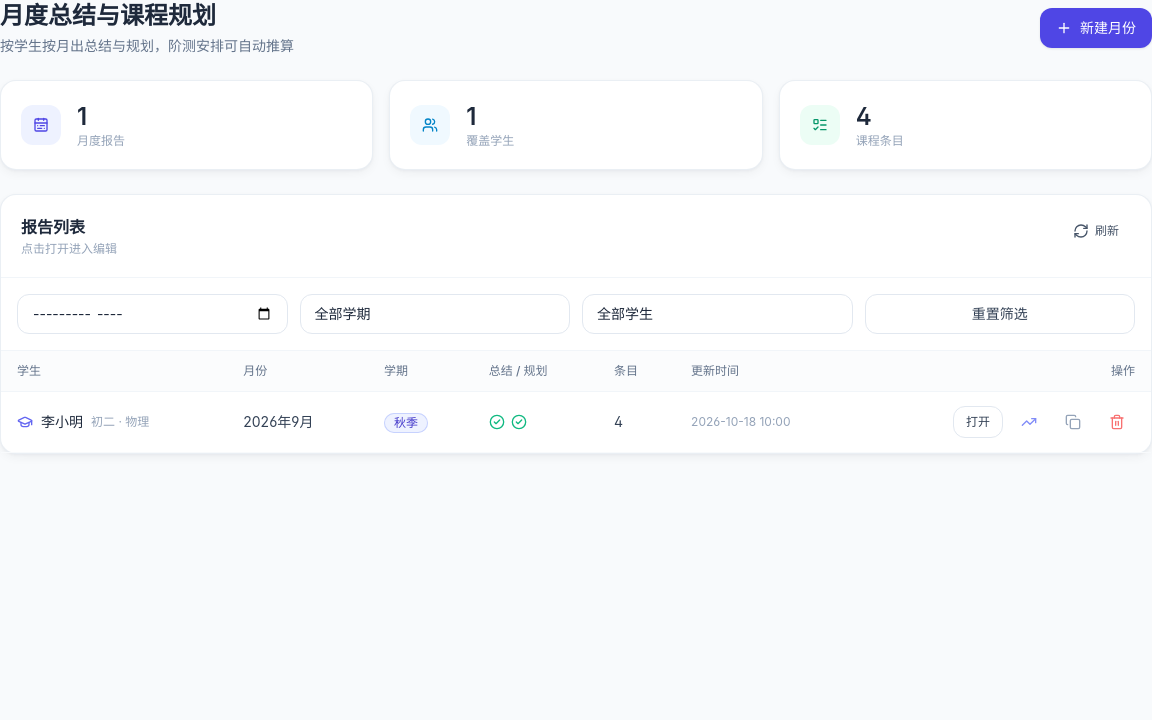
月度报告列表 › 删除报告要经过确认，确认后从列表移除
Expected: the text "李小明" is shown, [41,412,83,432]
Click the button named "删除" at (1117, 422), box [1099,404,1135,440]
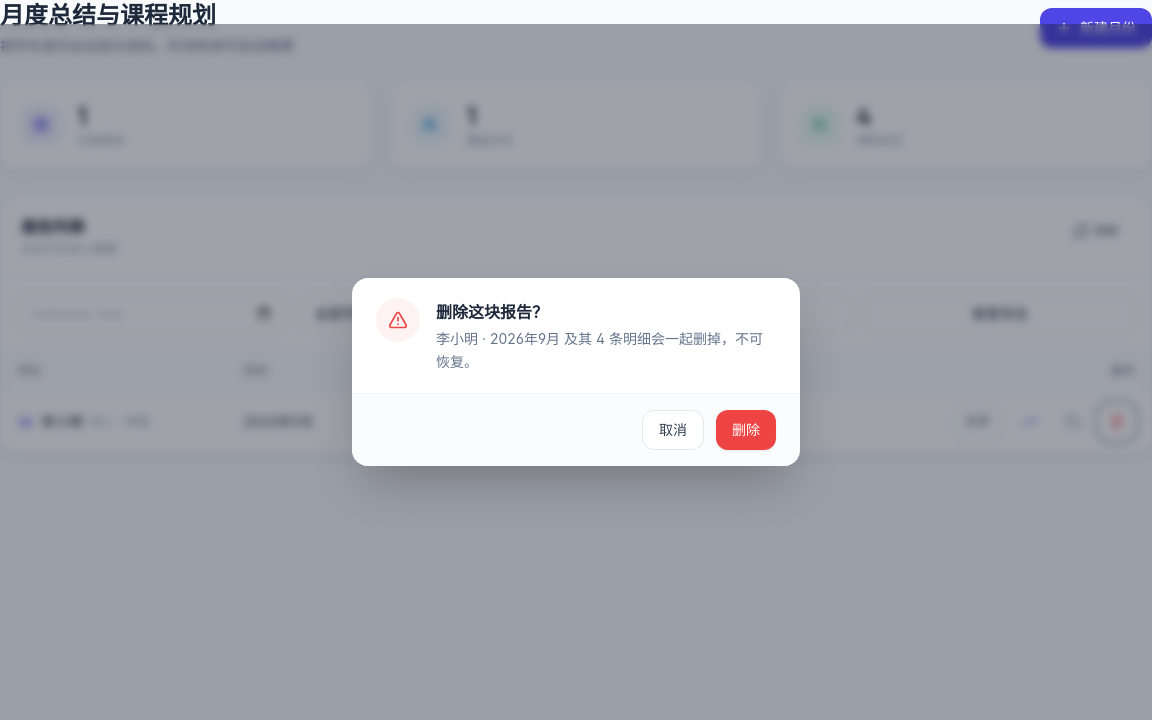
Result: the heading "删除这块报告？" is shown at [436,302,548,322]
Result: the text "李小明 · 2026年9月 及其 4 条明细会一起删掉，不可恢复。" is shown at [436,328,776,373]
Click the button "删除" at (746, 430), box [716,410,776,450]
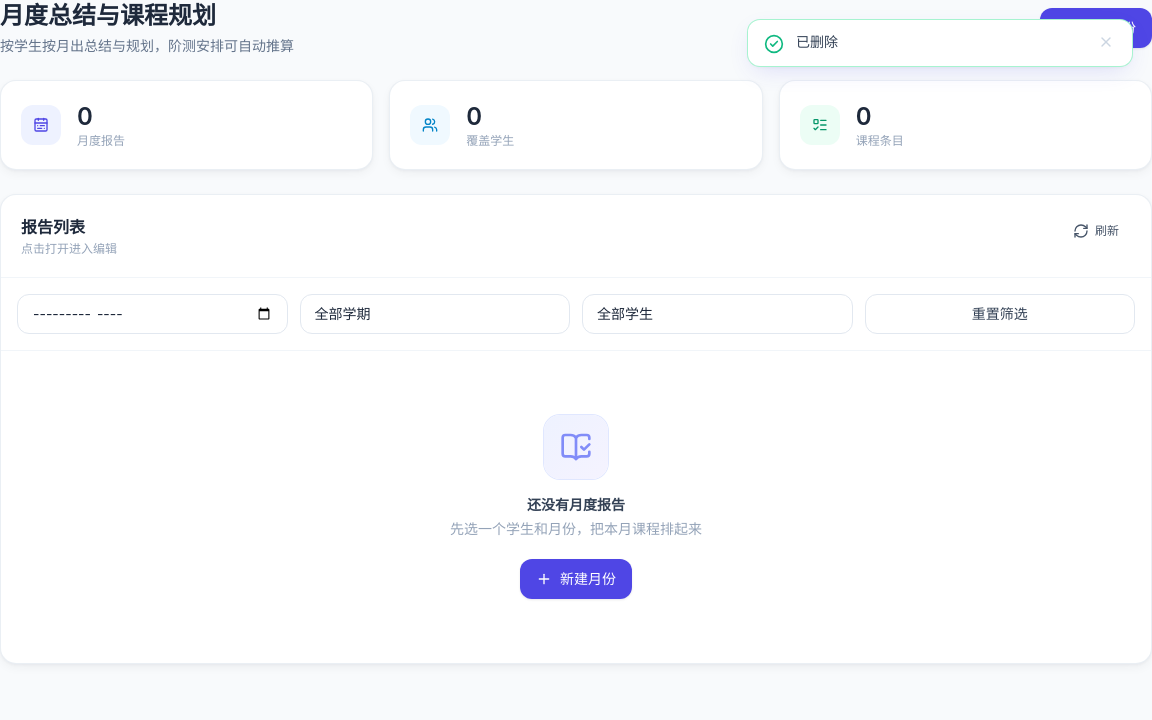
Result: the heading "还没有月度报告" is shown at [527,495,625,515]
Result: the table is gone
